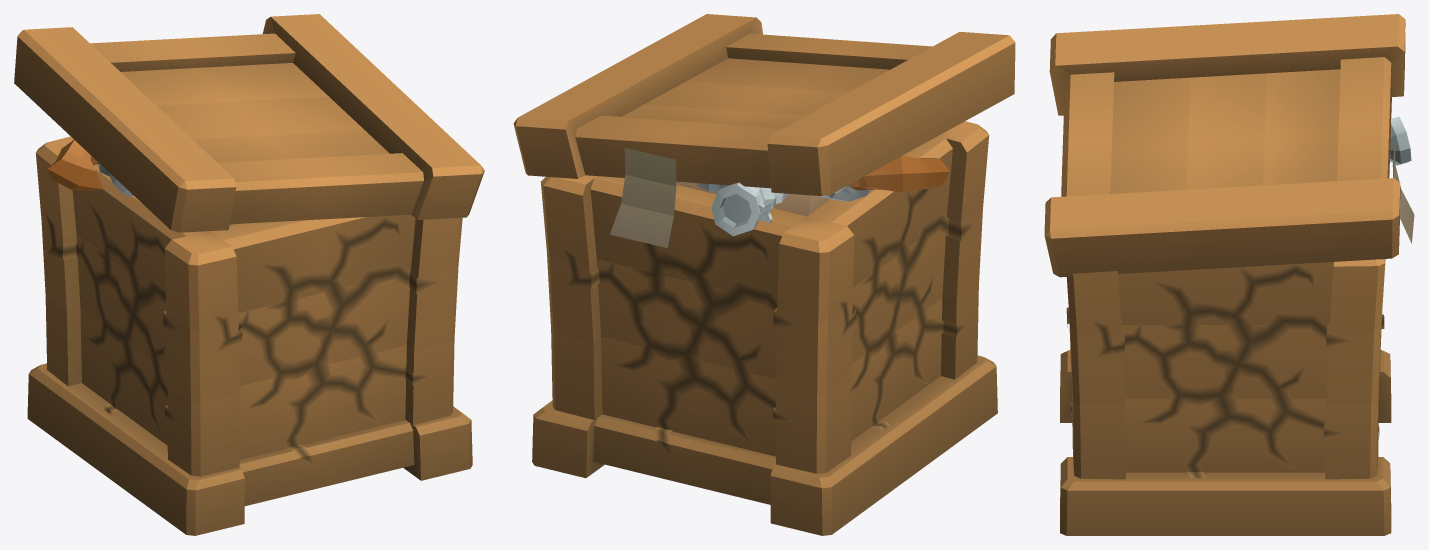
The model's file is SM_Pistol_Upgrade_Crate.fbx.
3 views of the same model, side by side, from view 1: azimuth 30°, elevation 25°; view 2: azimuth 150°, elevation 25°; view 3: azimuth 270°, elevation 25° (orthographic). The views are drawn at different scales.
Parts seen in each view (by area): view 1: SM_Pistol_Upgrade_Crate; view 2: SM_Pistol_Upgrade_Crate; view 3: SM_Pistol_Upgrade_Crate.
Boxes of the visible parts, bbox=[...] form: SM_Pistol_Upgrade_Crate: bbox=[14, 14, 484, 535]; SM_Pistol_Upgrade_Crate: bbox=[513, 14, 1015, 535]; SM_Pistol_Upgrade_Crate: bbox=[1044, 14, 1414, 535].
Bounding box in the file's own units: 112 × 104 × 118.
